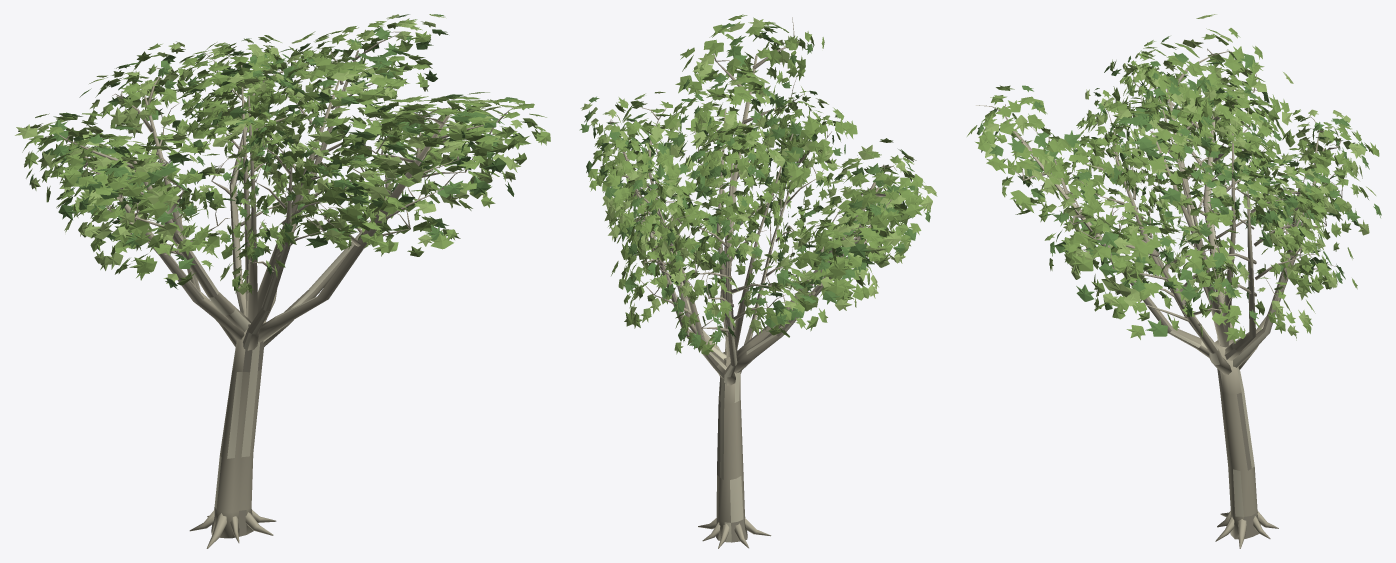
3 renders of one model, left to right at view 1: azimuth 30°, elevation 25°; view 2: azimuth 150°, elevation 25°; view 3: azimuth 270°, elevation 25°, orthographic. The views are drawn at different scales.
Visible parts, largest first — view 1: tree_plane_a_PlaneLeaf, tree_plane_a_PlaneBark, tree_plane_a_PlaneLeafLight, tree_plane_a_PlaneLeafDark, tree_plane_a_PlaneBarkPale, tree_plane_a_PlaneBarkBrown; view 2: tree_plane_a_PlaneLeaf, tree_plane_a_PlaneLeafDark, tree_plane_a_PlaneLeafLight, tree_plane_a_PlaneBark, tree_plane_a_PlaneBarkPale, tree_plane_a_PlaneBarkBrown; view 3: tree_plane_a_PlaneLeaf, tree_plane_a_PlaneLeafDark, tree_plane_a_PlaneBark, tree_plane_a_PlaneLeafLight, tree_plane_a_PlaneBarkPale, tree_plane_a_PlaneBarkBrown.
Part boxes in pixels (x1=…): tree_plane_a_PlaneLeaf: x1=18, y1=18, x2=550, y2=294; tree_plane_a_PlaneBark: x1=45, y1=31, x2=512, y2=548; tree_plane_a_PlaneLeafLight: x1=15, y1=14, x2=525, y2=294; tree_plane_a_PlaneLeafDark: x1=29, y1=14, x2=525, y2=289; tree_plane_a_PlaneBarkPale: x1=172, y1=93, x2=388, y2=509; tree_plane_a_PlaneBarkBrown: x1=154, y1=50, x2=431, y2=536; tree_plane_a_PlaneLeaf: x1=588, y1=14, x2=937, y2=355; tree_plane_a_PlaneLeafDark: x1=579, y1=23, x2=930, y2=349; tree_plane_a_PlaneLeafLight: x1=580, y1=17, x2=936, y2=341; tree_plane_a_PlaneBark: x1=609, y1=17, x2=896, y2=548; tree_plane_a_PlaneBarkPale: x1=624, y1=56, x2=856, y2=542; tree_plane_a_PlaneBarkBrown: x1=649, y1=172, x2=856, y2=542; tree_plane_a_PlaneLeaf: x1=967, y1=28, x2=1379, y2=343; tree_plane_a_PlaneLeafDark: x1=977, y1=36, x2=1381, y2=336; tree_plane_a_PlaneBark: x1=976, y1=48, x2=1345, y2=548; tree_plane_a_PlaneLeafLight: x1=983, y1=14, x2=1375, y2=335; tree_plane_a_PlaneBarkPale: x1=1023, y1=117, x2=1324, y2=516; tree_plane_a_PlaneBarkBrown: x1=1022, y1=143, x2=1324, y2=538.
Size of the model in its own units: 14.93 by 16.13 by 13.25.
